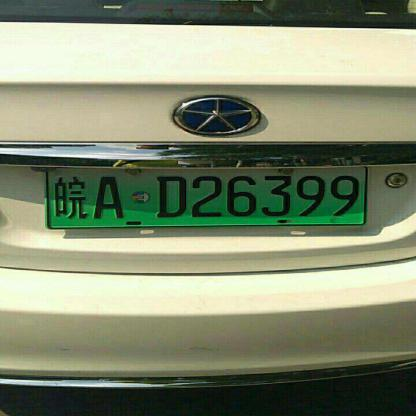lp: (47, 167, 363, 225)
